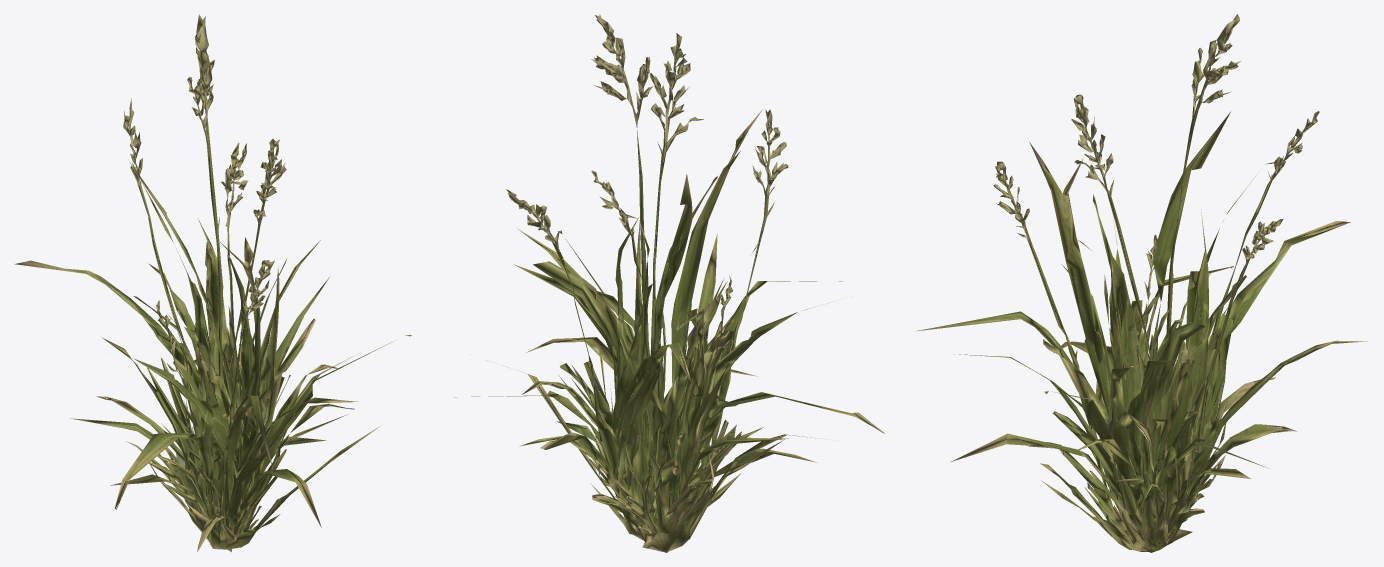
Rendered from hierba.glb.
3 views of the same model, side by side, from view 1: azimuth 30°, elevation 25°; view 2: azimuth 150°, elevation 25°; view 3: azimuth 270°, elevation 25° (orthographic). The views are drawn at different scales.
Parts seen in each view (by area): view 1: aligerado; view 2: aligerado; view 3: aligerado.
Part boxes in pixels (x1,y1,x2,y2): aligerado: (14,14,411,552); aligerado: (453,14,884,552); aligerado: (916,14,1367,552).
Size of the model in its own units: 0.2361 by 0.35 by 0.2655.
1 material, 1 textured.
